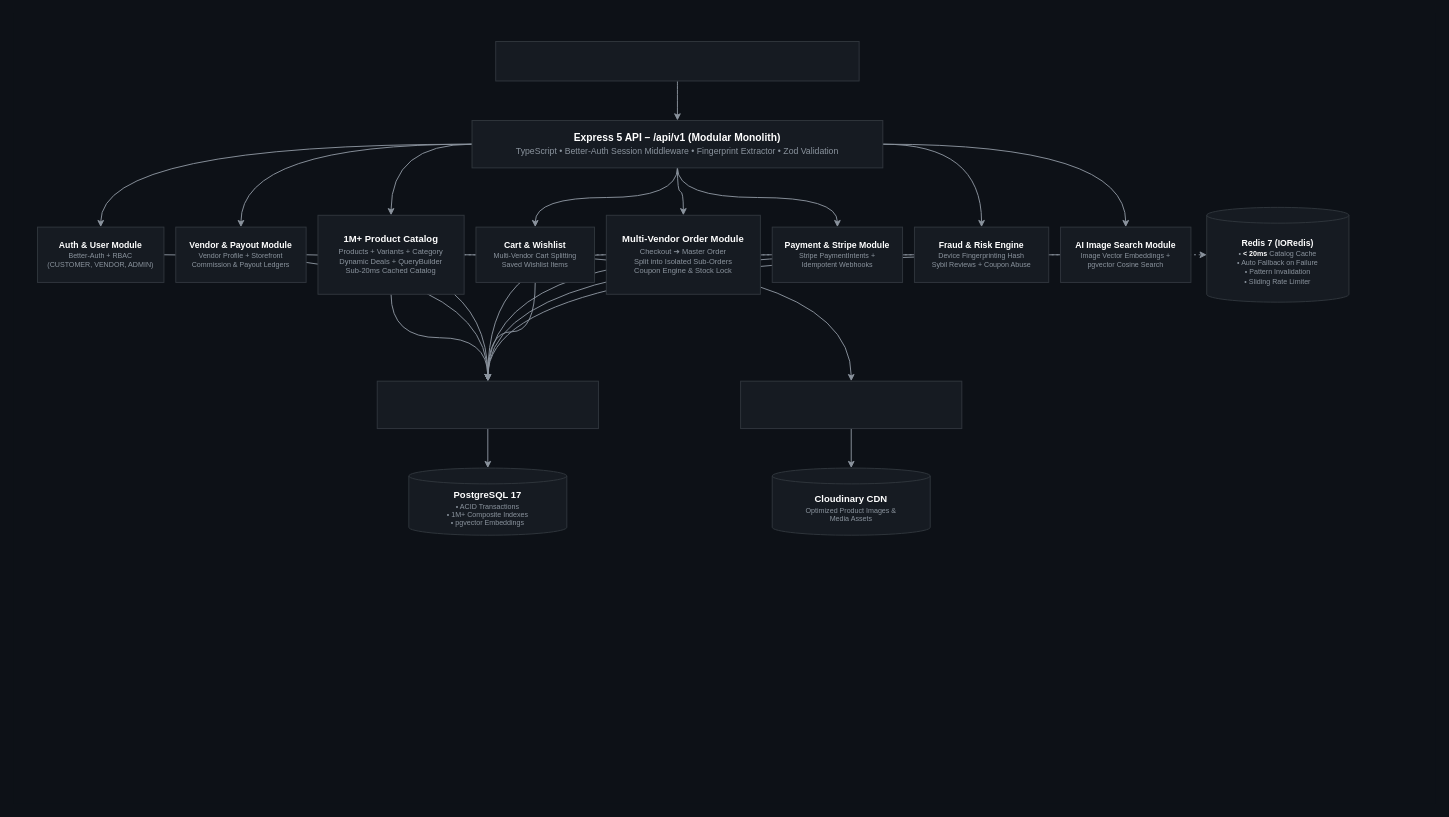
Some shapes in this 1449 by 817 pixel diagram are drawn without their labels. Here are the shapes that lost their labels. From the top down, the centre of each, then its label:
the point at 677,61: Clients (Next.js Storefront / Vendor Portal / Admin Console / Mobile)
the point at 487,404: PrismaService (@prisma/adapter-pg + pg connection pool)
the point at 851,404: Cloudinary Media Storage Module Multer + Cloudinary Storage Adapter
